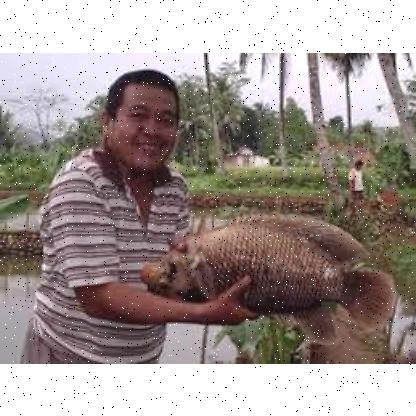gurame: (145, 222, 396, 336)
